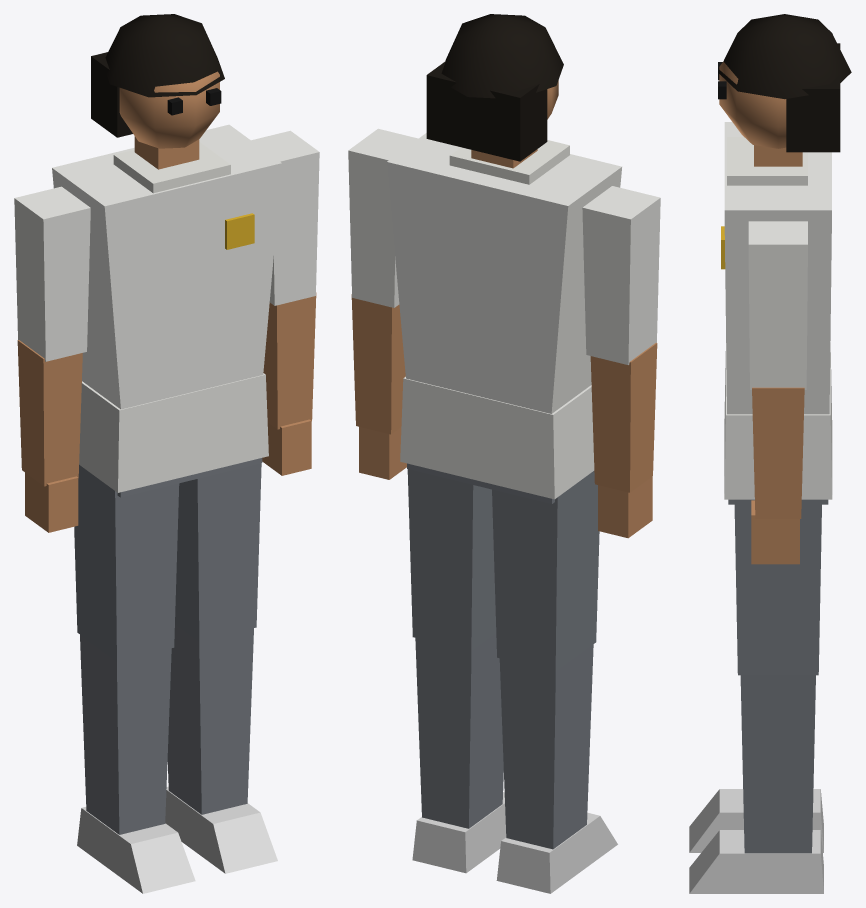
Rendered from deden.glb.
3 renders of one model, left to right at view 1: azimuth 30°, elevation 25°; view 2: azimuth 150°, elevation 25°; view 3: azimuth 270°, elevation 25°, orthographic. The views are drawn at different scales.
Visible parts, largest first — view 1: torso, leg_r, leg_l, arm_r, arm_l, head; view 2: torso, leg_r, leg_l, arm_r, arm_l, head; view 3: leg_l, torso, arm_l, head, leg_r.
Boxes of the visible parts, x1,y1,x2,y2 form: torso: (52,124,281,497); leg_r: (74,465,195,893); leg_l: (165,463,277,873); arm_r: (14,186,90,532); arm_l: (251,130,319,475); head: (91,14,224,148); torso: (386,133,621,503); leg_r: (492,471,617,893); leg_l: (407,469,506,873); arm_r: (582,186,660,538); arm_l: (348,128,418,479); head: (426,14,563,161); leg_l: (689,499,823,893); torso: (721,122,832,504); arm_l: (748,221,807,564); head: (718,14,851,152); leg_r: (689,789,823,852).
Size of the model in its own units: 0.5893 by 1.69 by 0.2939.
